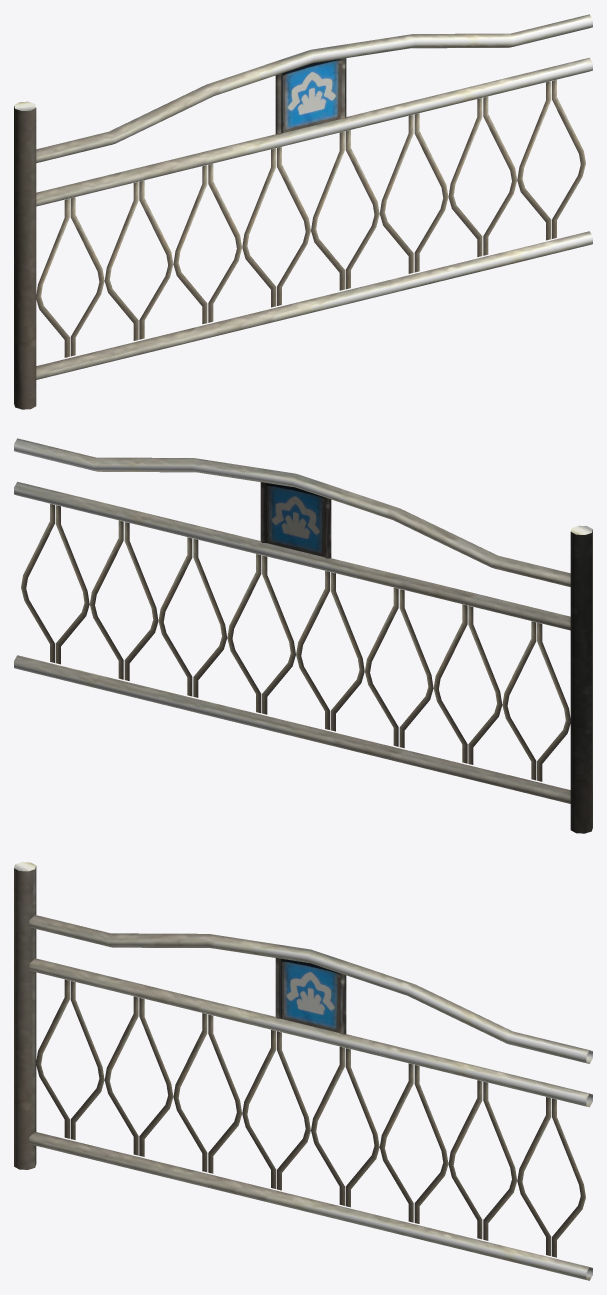
Rendered from pence.fbx.
3 views of the same model, one above another, from view 1: azimuth 30°, elevation 25°; view 2: azimuth 150°, elevation 25°; view 3: azimuth 330°, elevation 25° (orthographic).
Parts seen in each view (by area): view 1: fance_001; view 2: fance_001; view 3: fance_001.
Part boxes in pixels (bbox=[...]): fance_001: bbox=[14, 14, 592, 409]; fance_001: bbox=[14, 438, 592, 833]; fance_001: bbox=[14, 862, 592, 1280].
Size of the model in its own units: 216 by 107 by 7.51.
